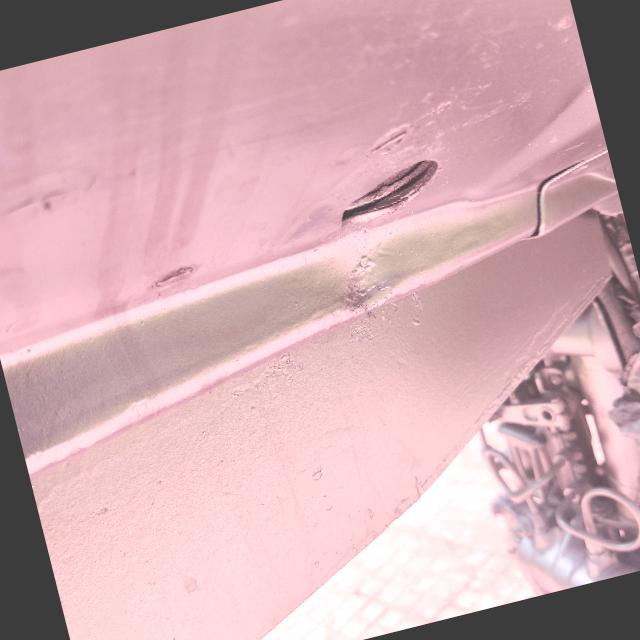dent: (303, 228, 416, 341)
